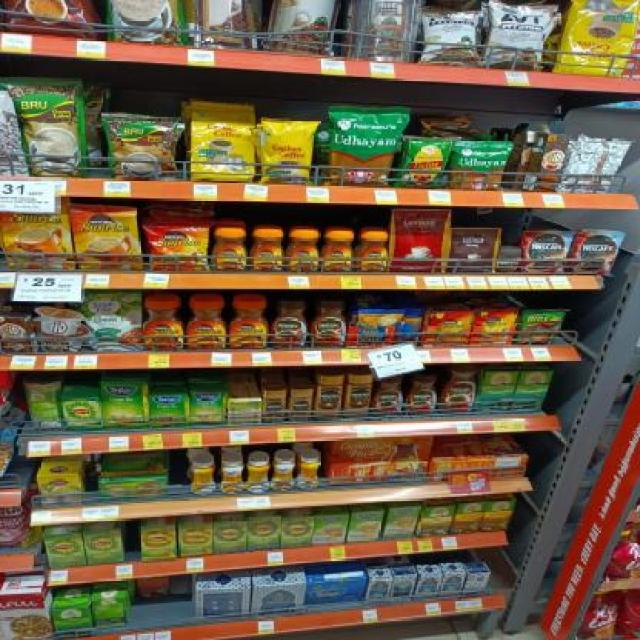Coffee: (1, 198, 76, 268), (71, 204, 140, 270), (148, 220, 207, 272), (142, 298, 184, 351), (229, 296, 268, 350), (186, 298, 226, 350), (572, 230, 614, 274), (526, 231, 566, 275), (272, 301, 308, 348), (441, 365, 477, 412), (312, 299, 346, 347), (215, 229, 248, 271), (251, 231, 283, 271), (291, 229, 318, 274), (406, 375, 437, 414), (324, 231, 353, 272), (374, 378, 403, 417), (361, 230, 387, 270), (317, 376, 340, 420), (349, 374, 371, 418), (264, 390, 284, 422), (290, 390, 310, 419), (496, 250, 522, 272)
